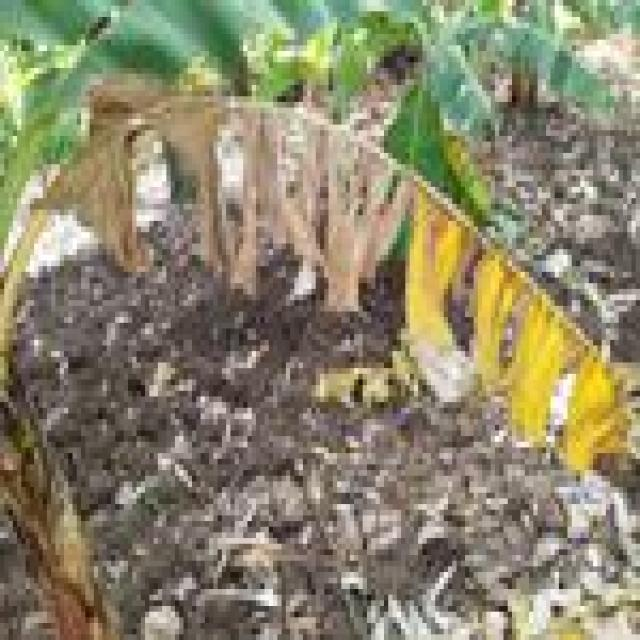Early_rust: (56, 87, 632, 472)
